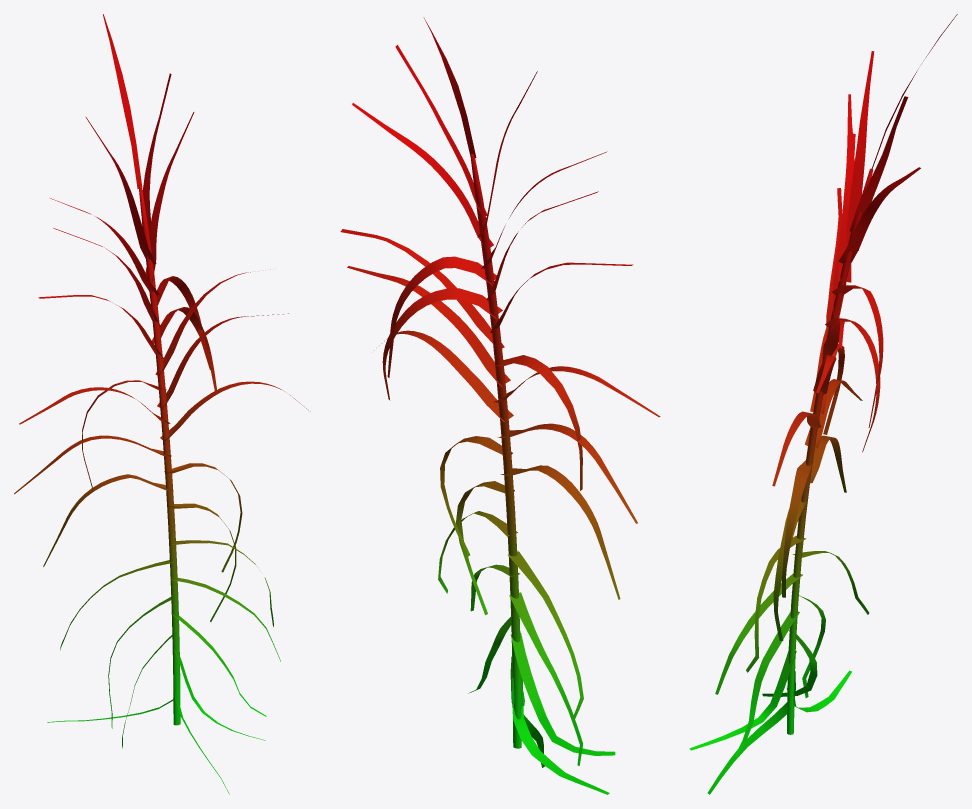
The model's file is Giant Reed_LOD0_Var5_sjllX.fbx.
3 renders of one model, left to right at view 1: azimuth 30°, elevation 25°; view 2: azimuth 150°, elevation 25°; view 3: azimuth 270°, elevation 25°, orthographic. The views are drawn at different scales.
Visible parts, largest first — view 1: _7288_Var5_LOD0; view 2: _7288_Var5_LOD0; view 3: _7288_Var5_LOD0.
Boxes of the visible parts, x1,y1,x2,y2 form: _7288_Var5_LOD0: (14,14,310,794); _7288_Var5_LOD0: (340,17,660,794); _7288_Var5_LOD0: (689,14,957,794).
Size of the model in its own units: 93.4 by 237 by 74.69.
